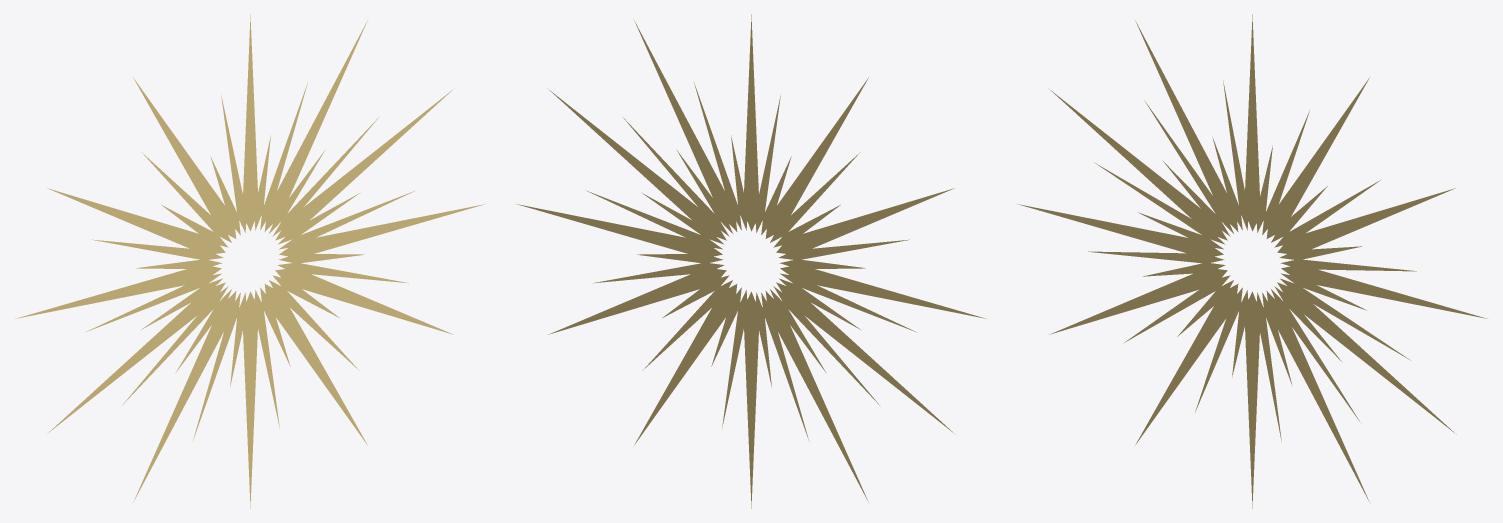
Rendered from Sunburst.obj.
The picture shows the model from 3 angles, left to right: view 1: azimuth 30°, elevation 25°; view 2: azimuth 150°, elevation 25°; view 3: azimuth 330°, elevation 25°; orthographic projection.
Visible parts, largest first — view 1: Sunburst; view 2: Sunburst; view 3: Sunburst.
Boxes of the visible parts, x1,y1,x2,y2 form: Sunburst: [15, 14, 485, 508]; Sunburst: [516, 14, 986, 508]; Sunburst: [1017, 14, 1487, 508].
Size of the model in its own units: 2 by 2 by 0.
1 material, 1 textured.
